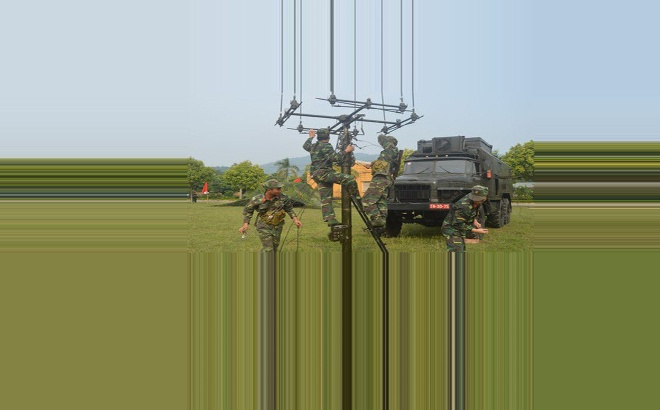plate: (427, 203, 451, 210)
